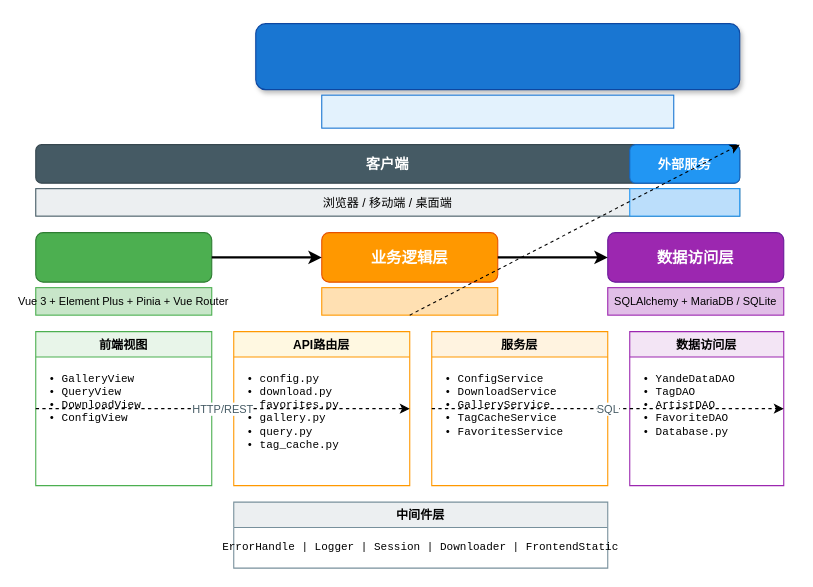
Image size: 813x587. Some labels were removed from this diagram. Each missing label, with the centre of its shape:
FastAPI + Pydantic v2 + Loguru: the point at 409,301
Modern Image Download Manager: the point at 497,111
yande.re API: the point at 684,202
Yande.re Spider Next: the point at 498,57
表现层: the point at 123,257
